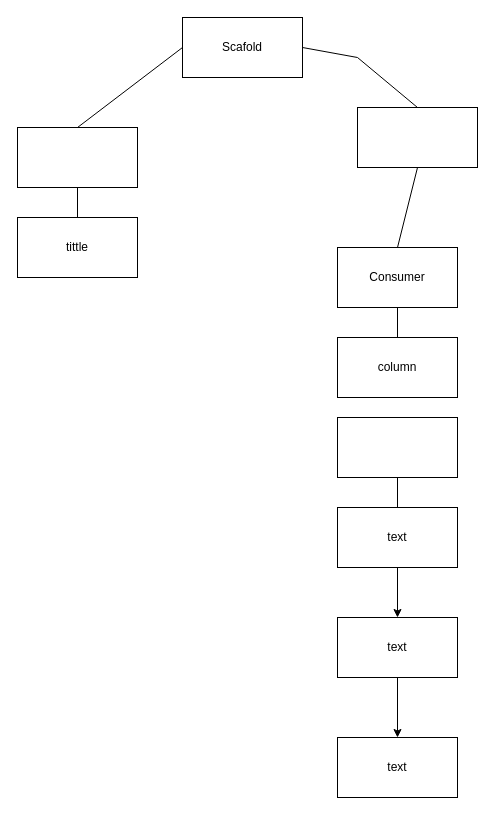
This 495x815 diagram has some shape labels left out. The shapes that lost their labels are listed below. From the top down, each one's box as (x1, y1, x2, y2) in pixels, then its label:
(16, 126, 138, 188): Appbar
(356, 106, 478, 168): body
(336, 416, 458, 478): gambar
